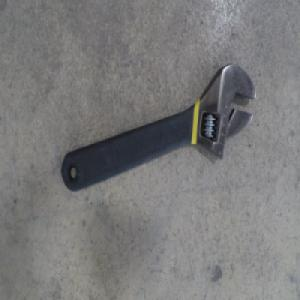AdjustableWrench: (61, 63, 255, 196)
